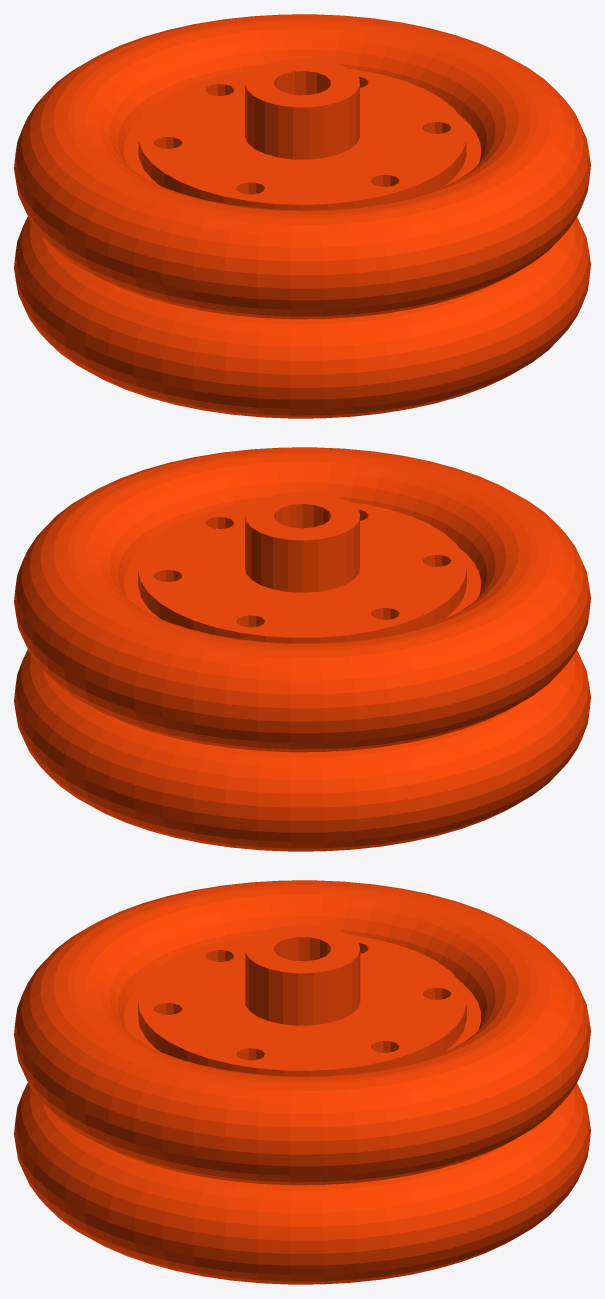
Rendered from wheel_front_right_link.dae.
The picture shows the model from 3 angles, top to bottom: view 1: azimuth 30°, elevation 25°; view 2: azimuth 150°, elevation 25°; view 3: azimuth 270°, elevation 25°; orthographic projection.
Parts seen in each view (by area): view 1: skp1cd2 (×6); view 2: skp1cd2 (×6); view 3: skp1cd2 (×6).
Part boxes in pixels (box(x1,y1,x2,y2)): skp1cd2 (×6): box(14, 14, 590, 418); skp1cd2 (×6): box(14, 447, 590, 851); skp1cd2 (×6): box(14, 880, 590, 1284).
Bounding box in the file's own units: 3.93 × 3.94 × 1.74.
